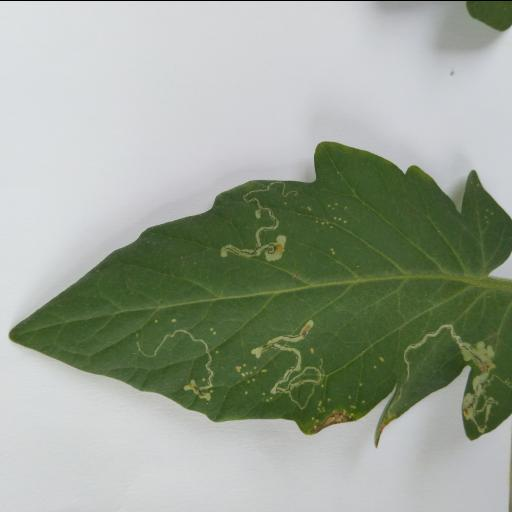disease_tomato: (8, 138, 512, 442)
